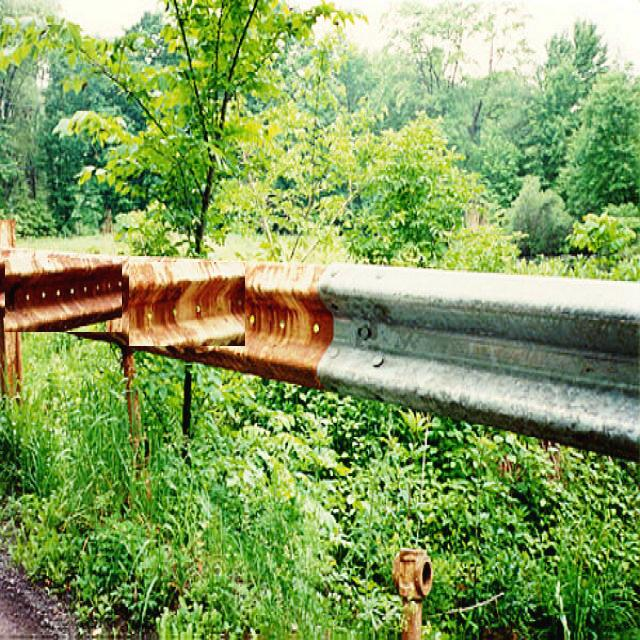Corrosion: (0, 222, 640, 460), (394, 550, 433, 640)
